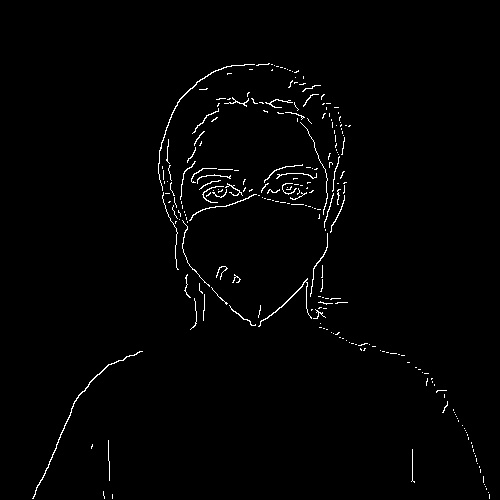mask: (179, 202, 330, 324)
